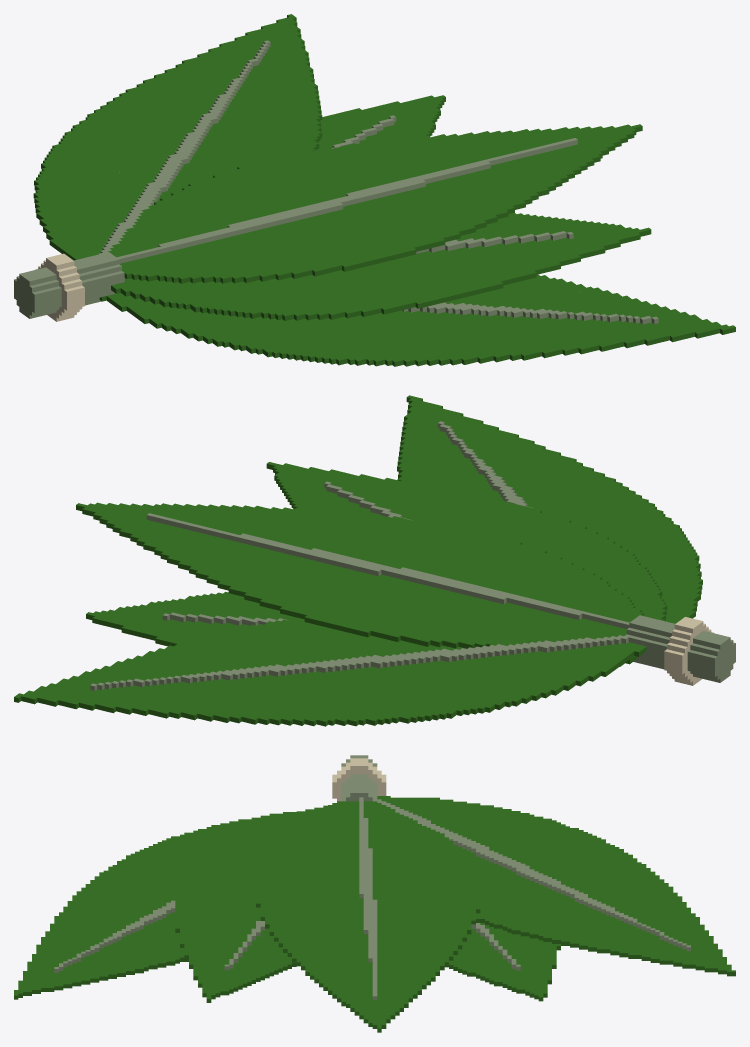
File: tobacco_raw.glb
The picture shows the model from 3 angles, top to bottom: view 1: azimuth 30°, elevation 25°; view 2: azimuth 150°, elevation 25°; view 3: azimuth 270°, elevation 25°; orthographic projection. The views are drawn at different scales.
Parts seen in each view (by area): view 1: tobacco_raw:compound; view 2: tobacco_raw:compound; view 3: tobacco_raw:compound.
Part boxes in pixels (<box>): tobacco_raw:compound: <box>14,14,735,366</box>; tobacco_raw:compound: <box>14,395,735,726</box>; tobacco_raw:compound: <box>14,755,735,1032</box>.
Size of the model in its own units: 0.28 by 0.024 by 0.322.
